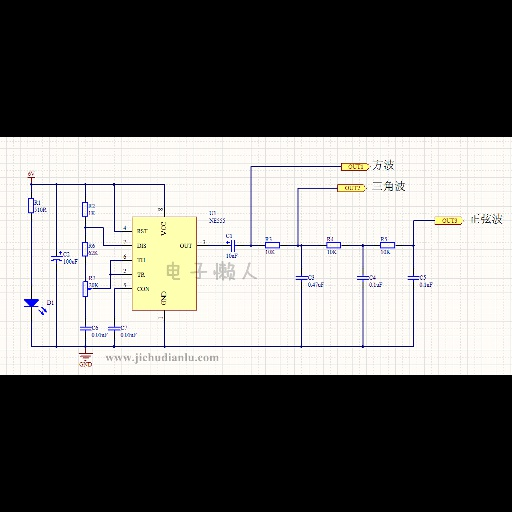capacitor: (76, 323, 93, 333), (293, 273, 308, 283), (405, 273, 419, 282), (106, 325, 121, 333), (356, 273, 369, 282)
firstled: (21, 297, 47, 317)
firstpolarcapacitor: (48, 248, 63, 264), (223, 238, 238, 253)
firstresistance: (261, 240, 283, 250), (78, 200, 89, 219), (376, 240, 399, 249), (25, 195, 35, 215), (322, 240, 342, 249), (79, 239, 88, 258)
gnd: (76, 351, 95, 362)
